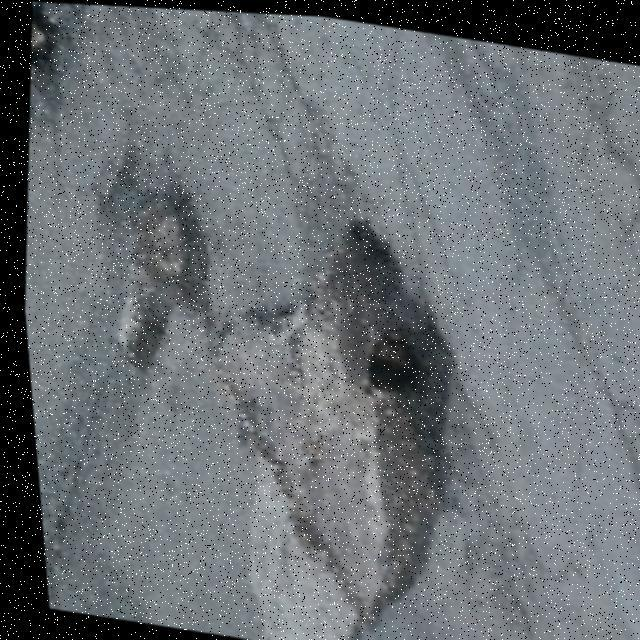pothole: (282, 214, 467, 510), (88, 180, 228, 378), (18, 1, 89, 138)
